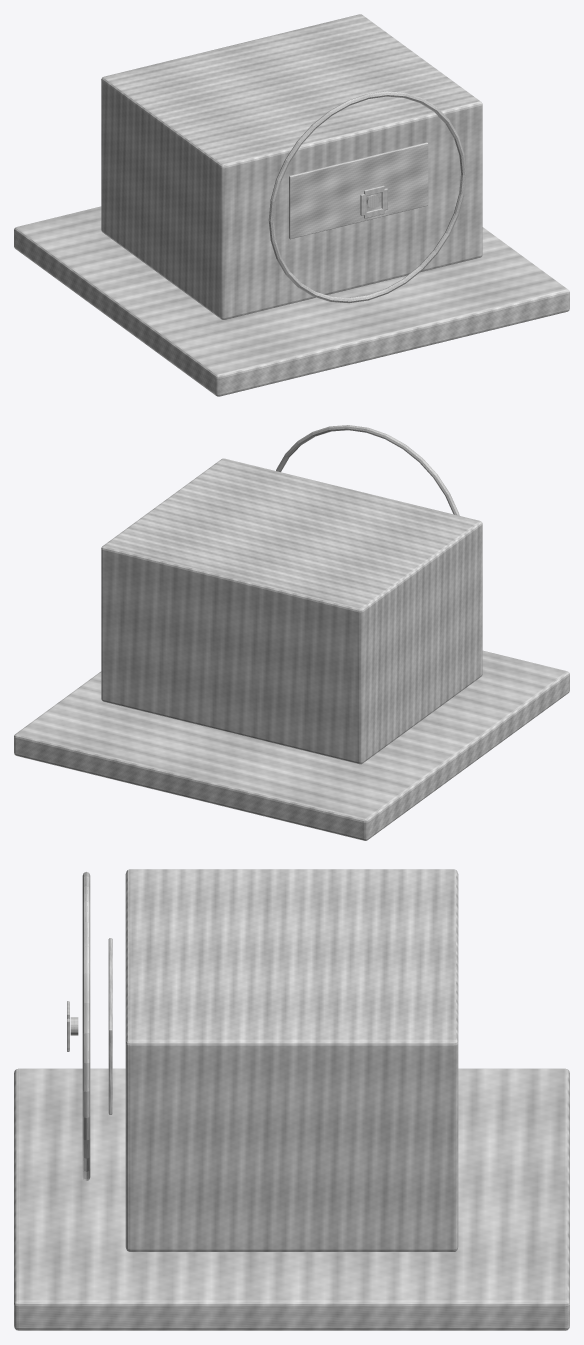
The model's file is large-fan_variant_a.glb.
The picture shows the model from 3 angles, top to bottom: view 1: azimuth 30°, elevation 25°; view 2: azimuth 150°, elevation 25°; view 3: azimuth 270°, elevation 25°; orthographic projection. The views are drawn at different scales.
Parts seen in each view (by area): view 1: Fixture housing, Foundation, Control face.001, Fan guard.001; view 2: Fixture housing, Foundation, Fan guard.001; view 3: Fixture housing, Foundation, Fan guard.001, Control face.001.
Boxes of the visible parts, x1,y1,x2,y2 form: Fixture housing: (101,14,482,319); Foundation: (14,206,569,396); Control face.001: (289,142,428,239); Fan guard.001: (268,91,466,303); Fixture housing: (101,458,482,764); Foundation: (14,650,569,840); Fan guard.001: (276,425,459,515); Fixture housing: (125,869,458,1251); Foundation: (14,1068,569,1330); Fan guard.001: (82,872,90,1180); Control face.001: (108,938,112,1114).
Size of what is drawn, in the model's own units: 7.36 by 4.8 by 7.36.
Materials: 6 (6 with a texture image).
